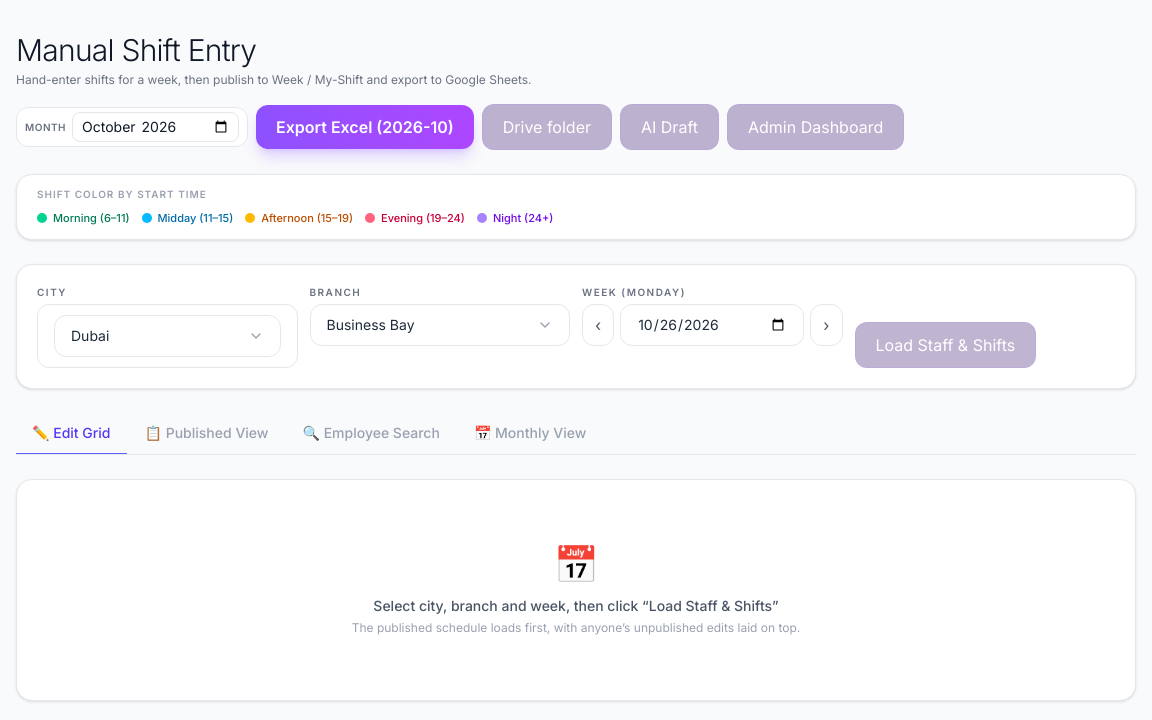
Scenario: ManualShiftPage — branch dropdown › clicking Branch button opens dropdown with all Dubai branches
The width and height of the screenshot is (1152, 720).
Click the button "Business Bay" at [371, 324], box [310,304,570,346]
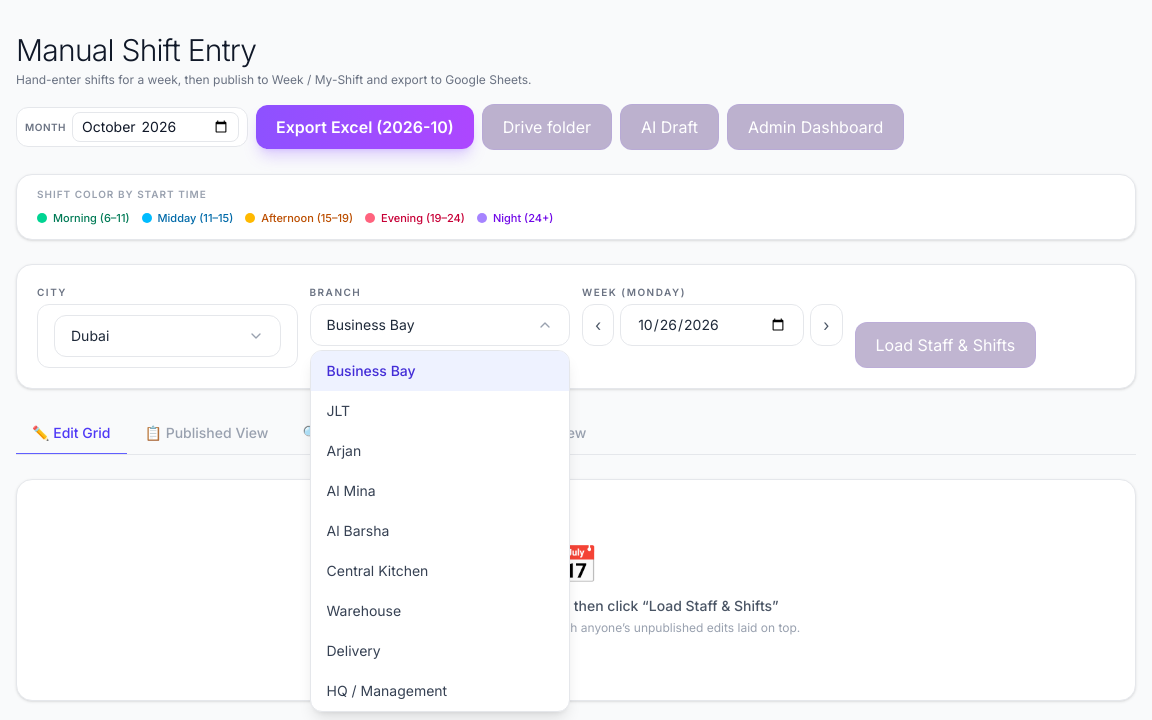
Now the button "JLT" is shown, box [310,390,569,430]
Now the button "Arjan" is shown, box [310,430,569,470]
Now the button "Al Mina" is shown, box [310,470,569,510]
